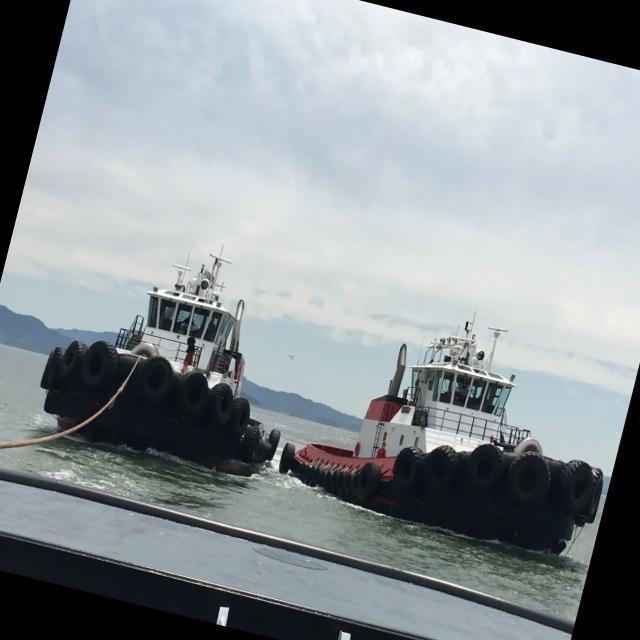Tug: (279, 321, 603, 554), (40, 255, 279, 475)
